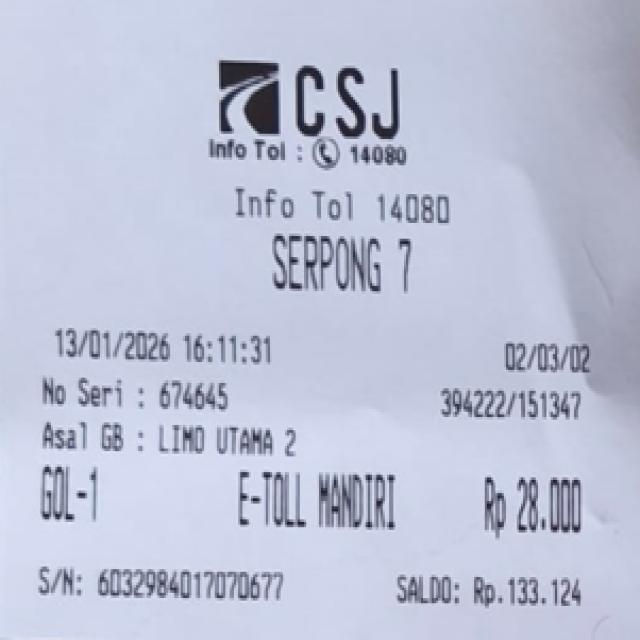date: (49, 319, 288, 368)
store: (203, 51, 434, 178)
total: (470, 465, 595, 543)
